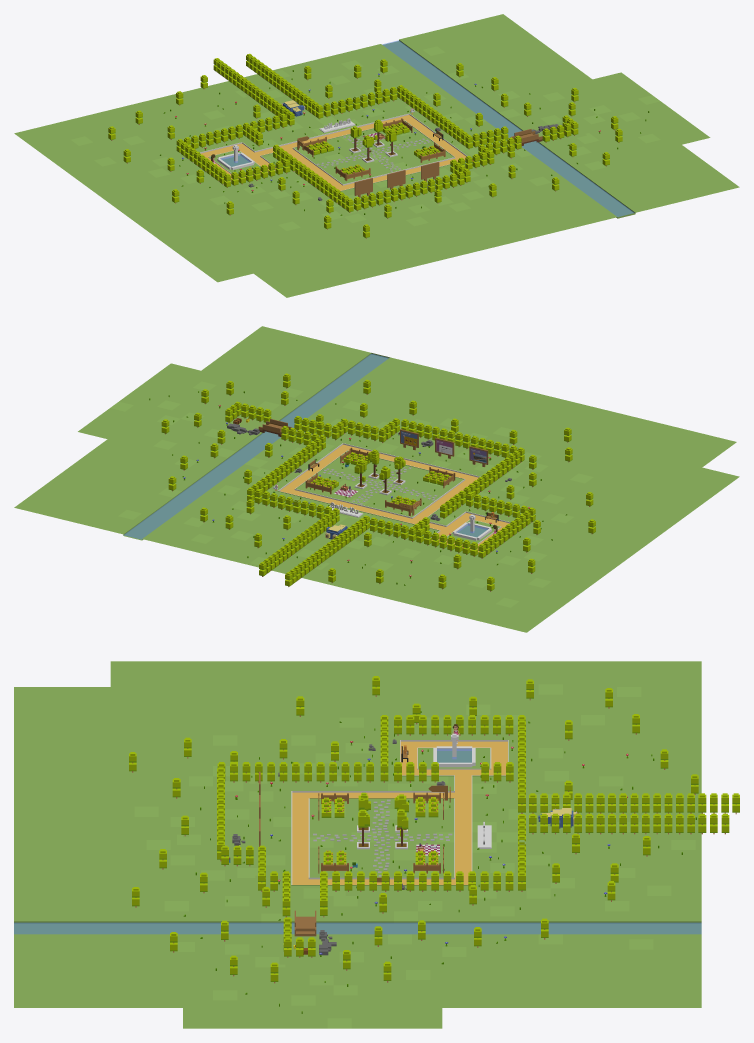
File: portfolio4.glb
3 views of the same model, one above another, from view 1: azimuth 30°, elevation 25°; view 2: azimuth 150°, elevation 25°; view 3: azimuth 270°, elevation 25° (orthographic). The views are drawn at different scales.
Parts seen in each view (by area): view 1: Level; view 2: Level; view 3: Level.
Boxes of the visible parts, x1,y1,x2,y2 form: Level: (14, 14, 739, 297); Level: (14, 326, 739, 632); Level: (14, 661, 739, 1028).
Size of what is drawn, in the model's own units: 310 by 25.24 by 259.
75 materials, 3 textured.
